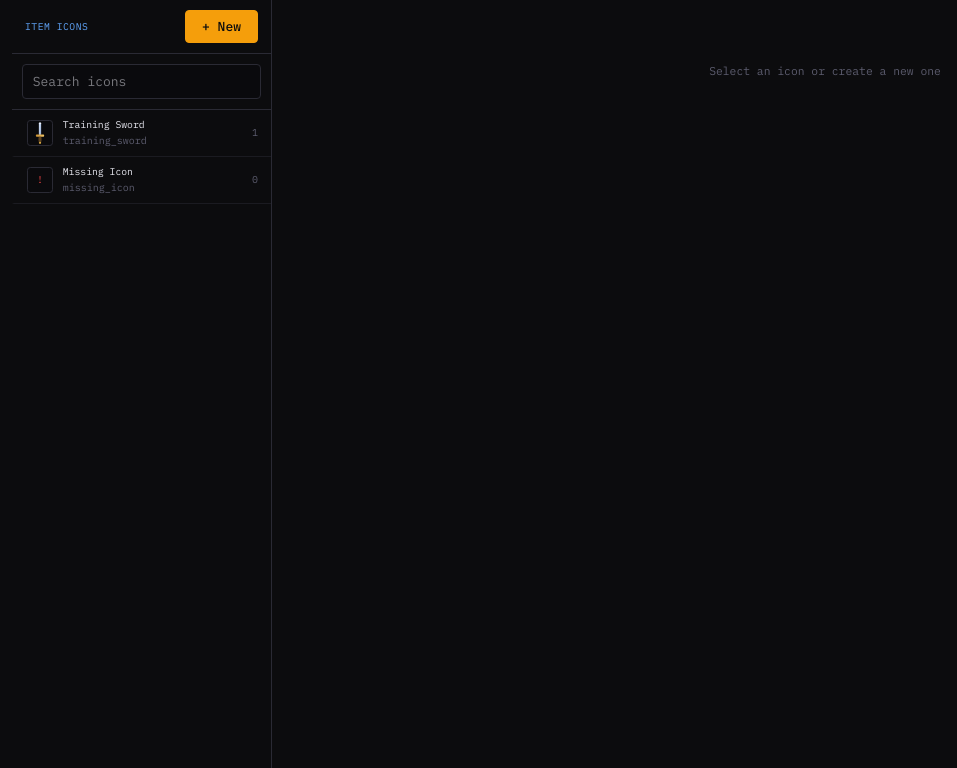
Scenario: IconsPage › shows missing asset warning for catalog entries without SVG
The width and height of the screenshot is (957, 768).
Check: the text "Missing Icon" is shown, box [63, 165, 133, 178]
Click the button "! Missing Icon missing_icon 0" at [142, 180], box [12, 157, 271, 204]
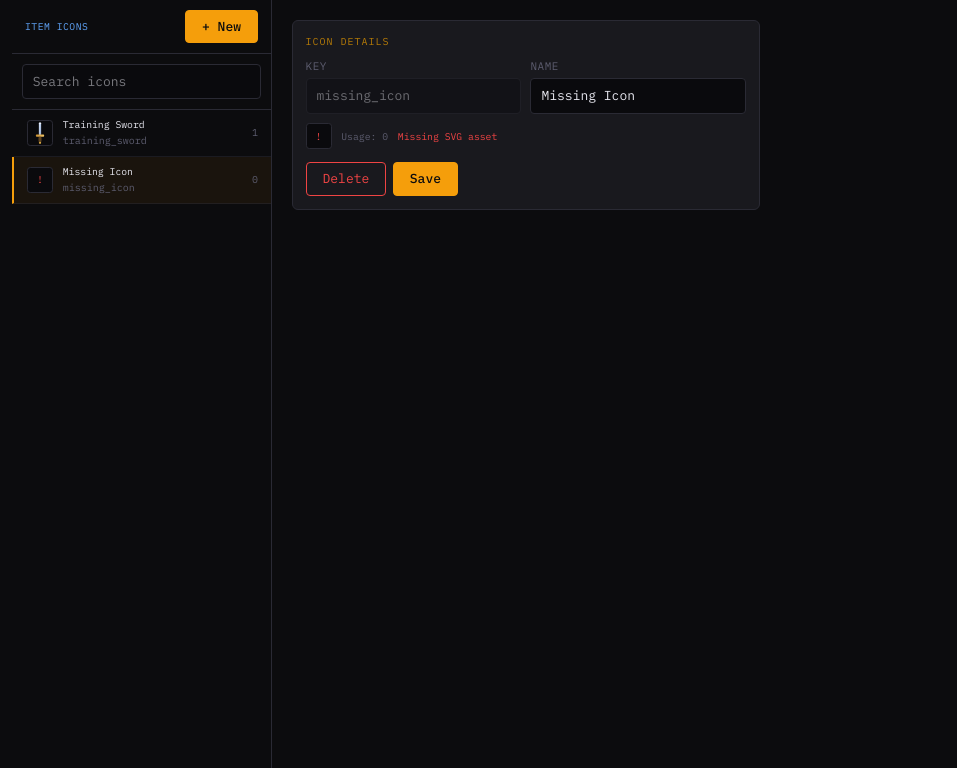
Check: the text "Missing SVG asset" is shown, box [398, 130, 497, 143]
